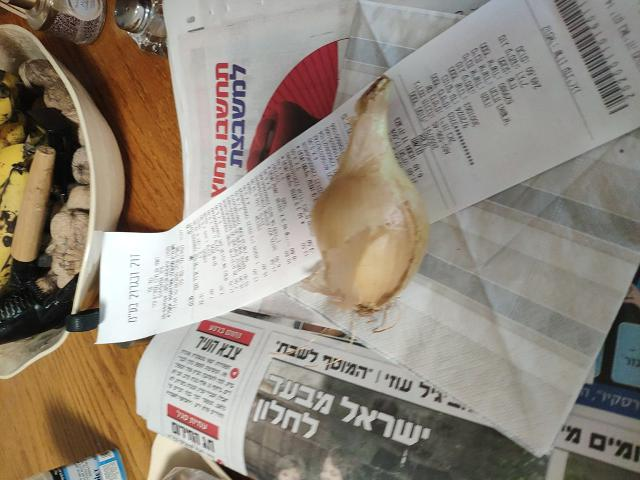onion: (320, 156, 411, 309)
